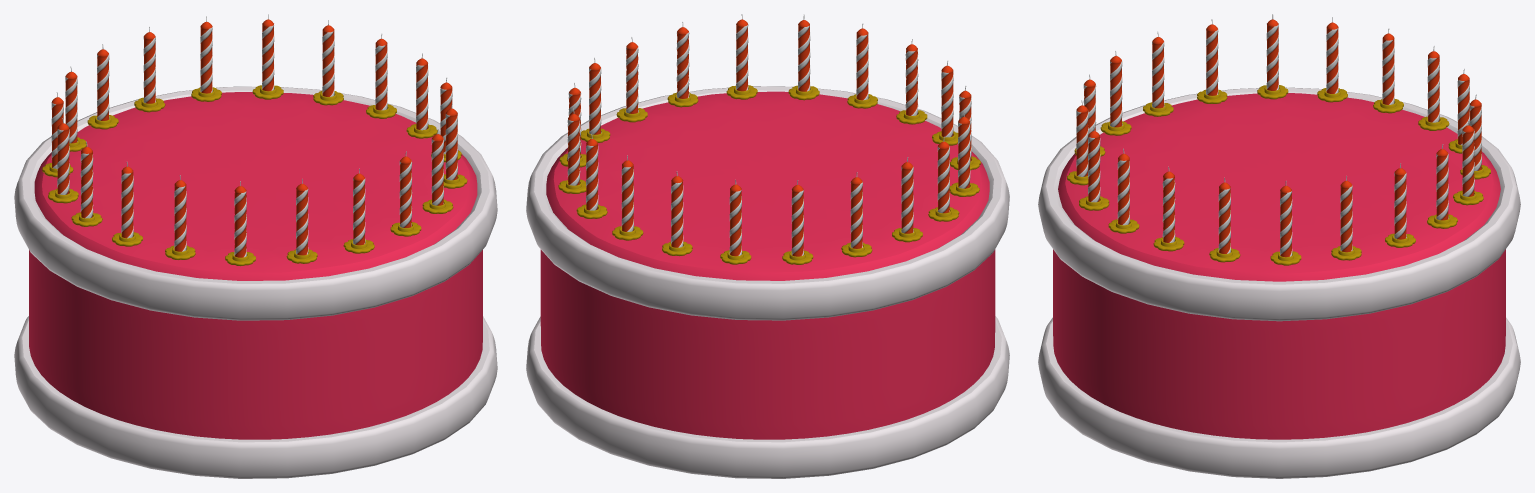
File: cake.glb
3 renders of one model, left to right at view 1: azimuth 30°, elevation 25°; view 2: azimuth 150°, elevation 25°; view 3: azimuth 270°, elevation 25°, orthographic.
Visible parts, largest first — view 1: Kaars.001_0.001; view 2: Kaars.001_0.001; view 3: Kaars.001_0.001.
Part boxes in pixels (x1,y1,x2,y2): Kaars.001_0.001: (14,14,497,478); Kaars.001_0.001: (526,14,1009,478); Kaars.001_0.001: (1038,14,1520,478).
Bounding box in the file's own units: 2.07 × 1.37 × 2.07.
